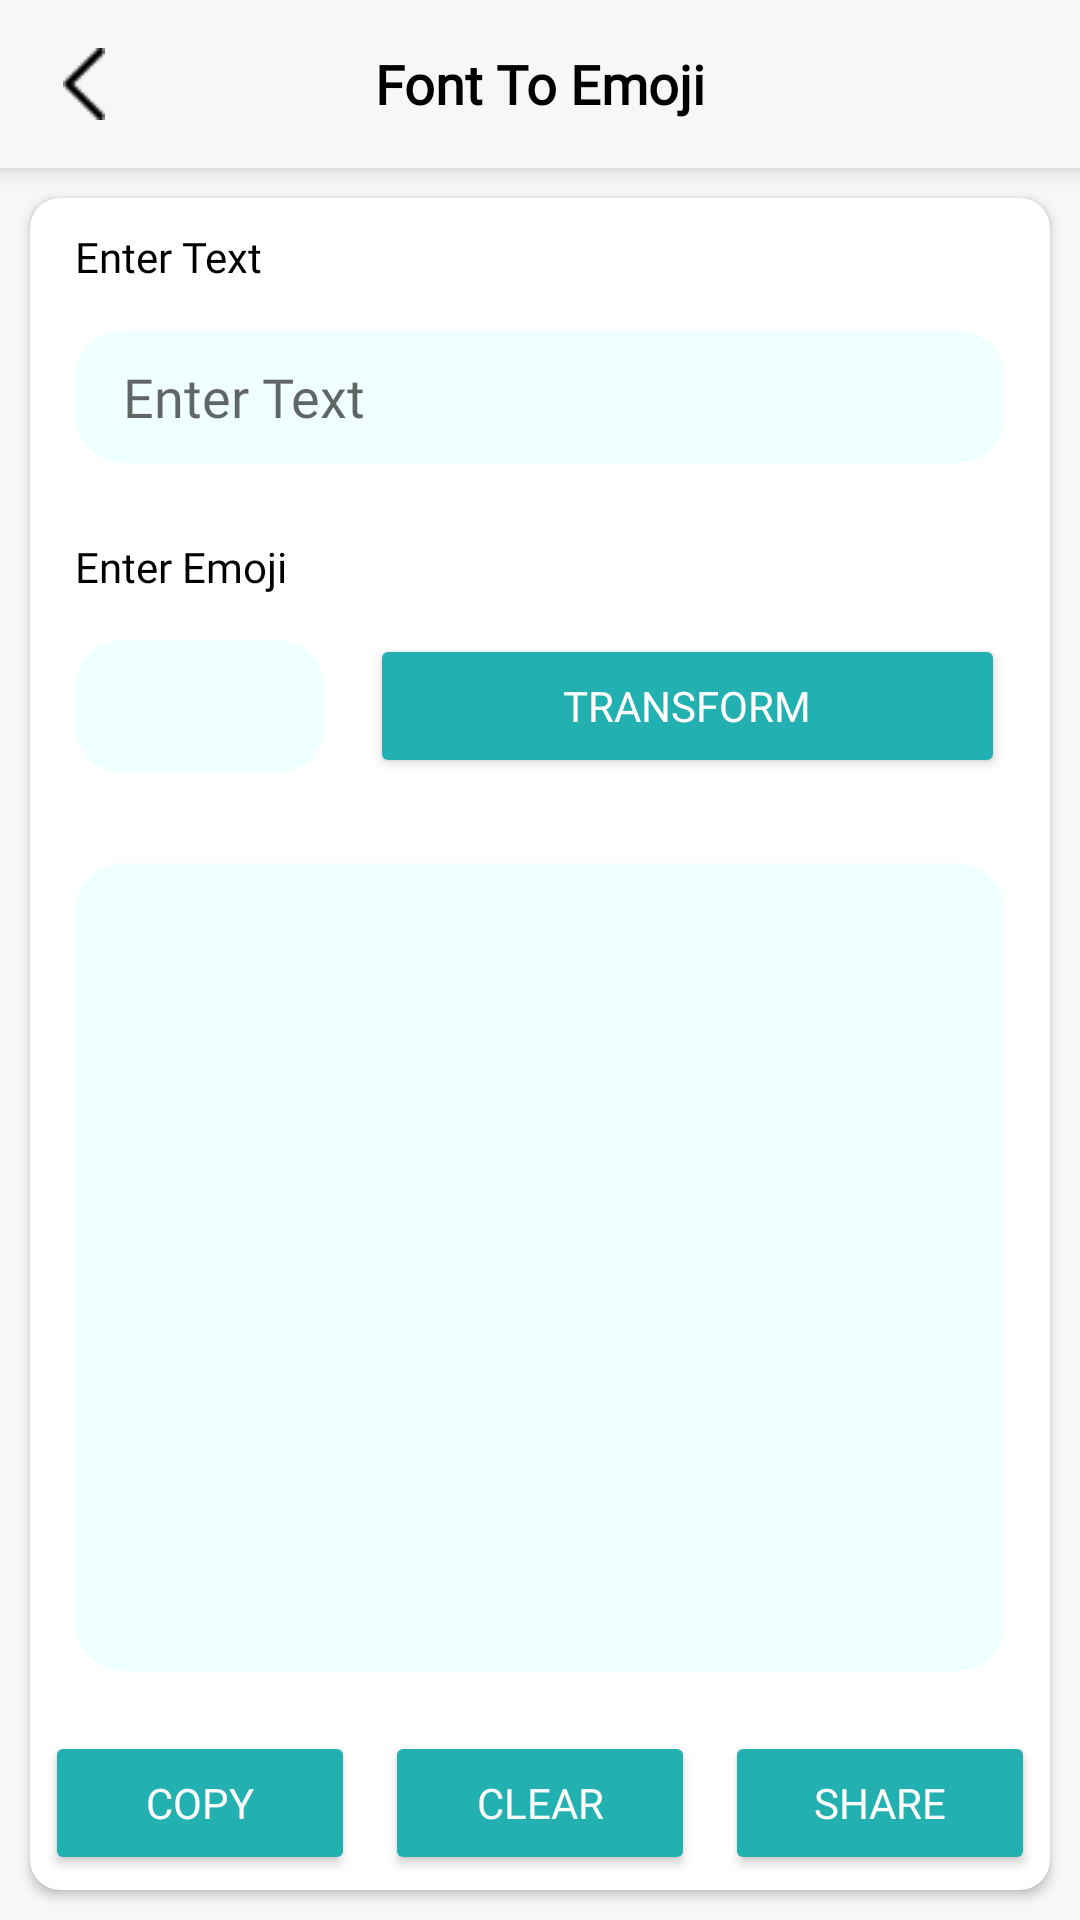

Where to tap for icons on this 1080 × 1920 app screen, as (x,y):
back: (84,84)
